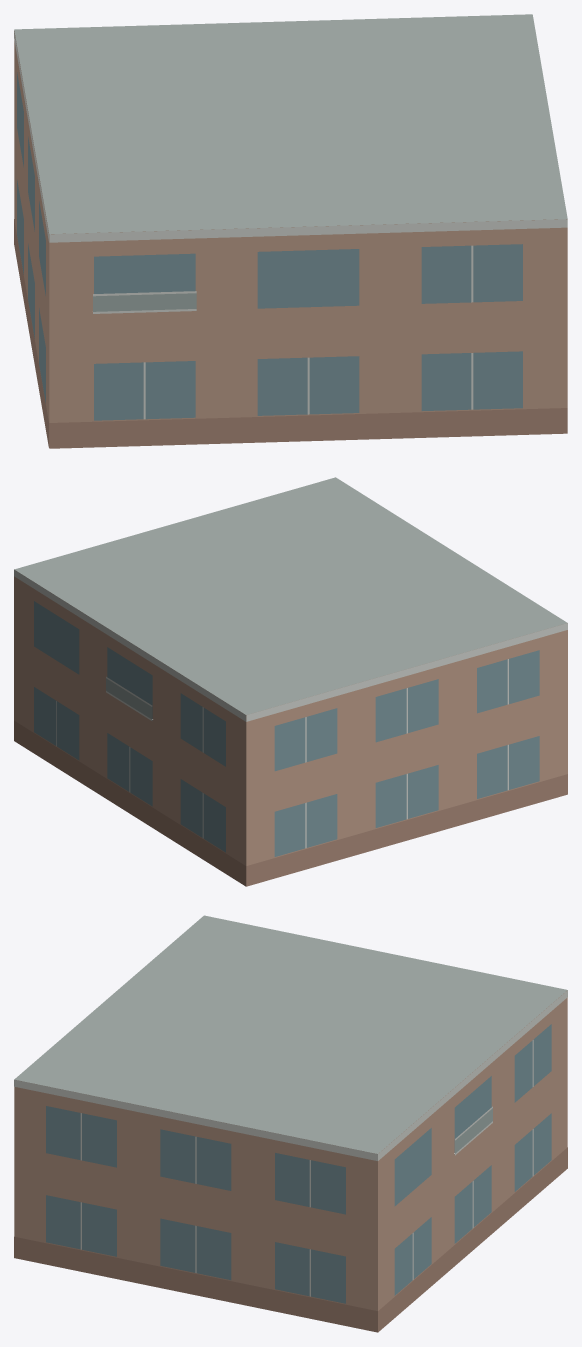
The model's file is survey-upis-32891847.glb.
3 renders of one model, top to bottom at view 1: azimuth 30°, elevation 25°; view 2: azimuth 150°, elevation 25°; view 3: azimuth 270°, elevation 25°, orthographic. The views are drawn at different scales.
Parts seen in each view (by area): view 1: survey-upis-32891847.tmp; view 2: survey-upis-32891847.tmp; view 3: survey-upis-32891847.tmp.
Part boxes in pixels (x1,y1,x2,y2): survey-upis-32891847.tmp: [14, 14, 567, 448]; survey-upis-32891847.tmp: [14, 477, 567, 886]; survey-upis-32891847.tmp: [14, 915, 567, 1332].
Size of the model in its own units: 17.51 by 6.1 by 17.16.
